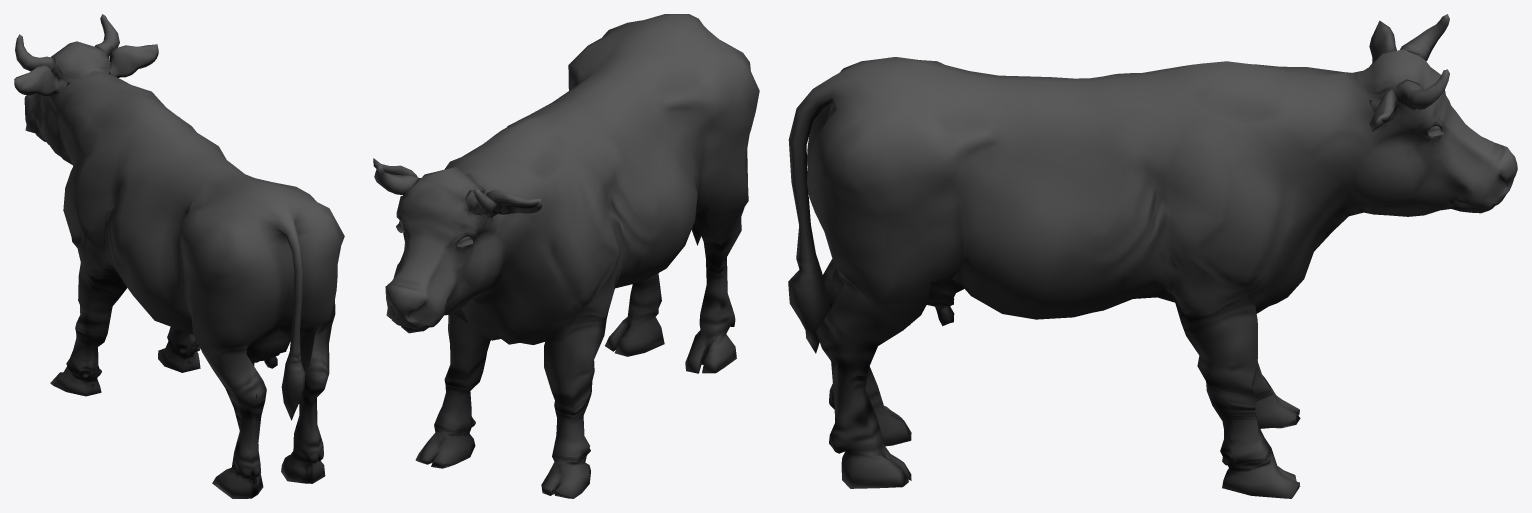
File: cow_LD.dae
The picture shows the model from 3 angles, left to right: view 1: azimuth 30°, elevation 25°; view 2: azimuth 150°, elevation 25°; view 3: azimuth 270°, elevation 25°; orthographic projection. The views are drawn at different scales.
Parts seen in each view (by area): view 1: Cube; view 2: Cube; view 3: Cube.
Part boxes in pixels (<box>): Cube: <box>14,14,344,498</box>; Cube: <box>373,14,759,498</box>; Cube: <box>788,14,1517,498</box>.
Size of the model in its own units: 3.07 by 9.84 by 6.22.
Materials: 2 (2 with a texture image).
